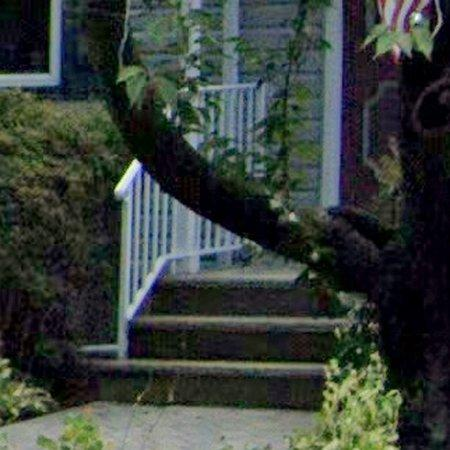stairs: (70, 257, 344, 410)
